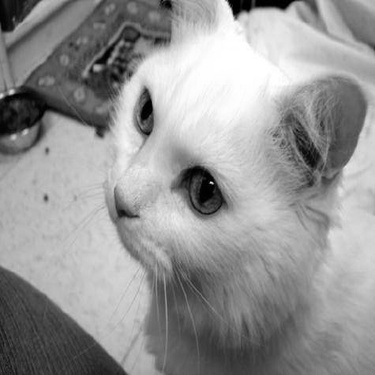cat: (39, 6, 368, 363)
